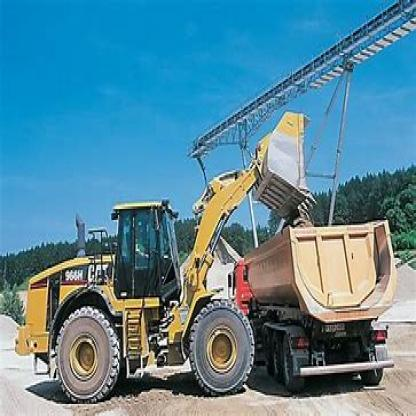bull_dozer/loader/grader: (12, 98, 309, 397)
